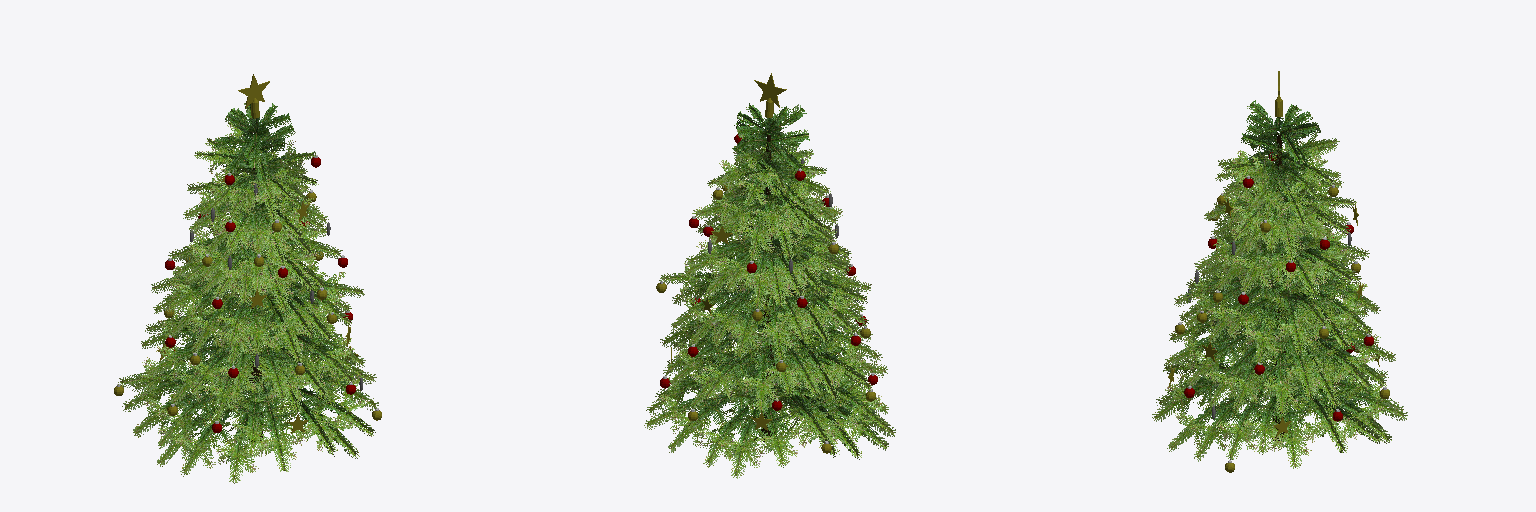
3 renders of one model, left to right at view 1: azimuth 30°, elevation 25°; view 2: azimuth 150°, elevation 25°; view 3: azimuth 270°, elevation 25°, orthographic.
Parts seen in each view (by area): view 1: objMesh; view 2: objMesh; view 3: objMesh.
Part boxes in pixels (x1,y1,x2,y2): objMesh: (114,74,381,483); objMesh: (644,73,895,478); objMesh: (1152,71,1407,472).
Bounding box in the file's own units: 1.31 × 2.03 × 1.32.
Materials: 6 (1 with a texture image).